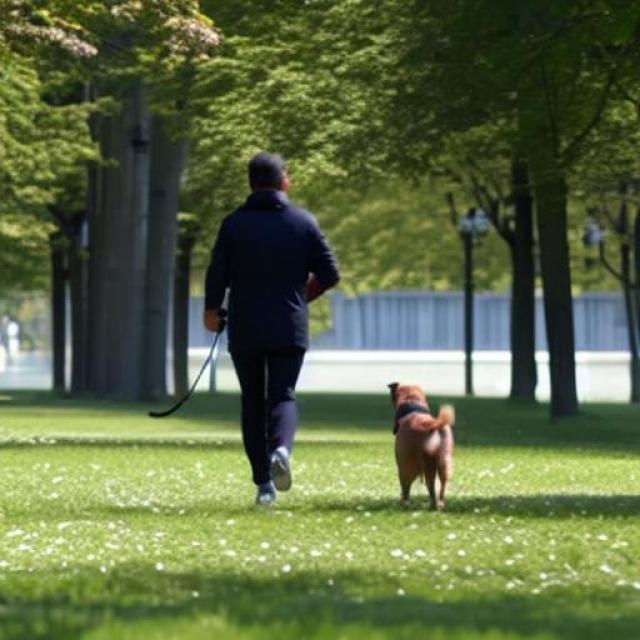Unleashed_Dog: (230, 350, 456, 510)
